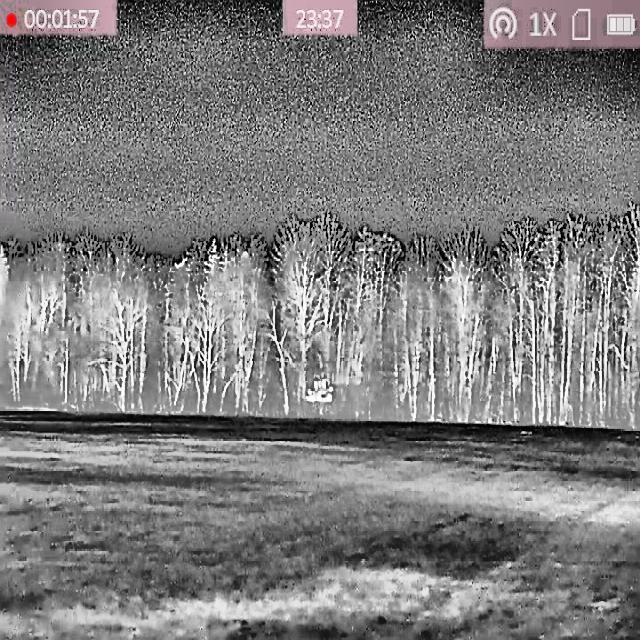drone: (304, 378, 336, 404)
